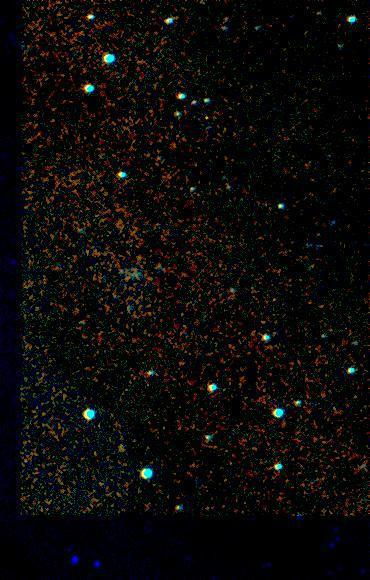star: (192, 102, 222, 132)
